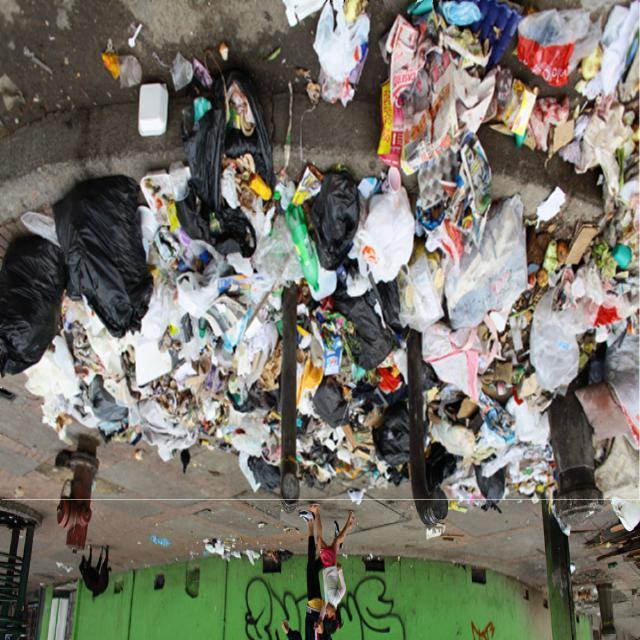Trashbag: (49, 176, 164, 333), (175, 75, 271, 256), (0, 227, 71, 373), (307, 163, 363, 278), (334, 281, 394, 362), (412, 450, 462, 527), (367, 412, 411, 471), (473, 457, 516, 513), (86, 378, 131, 428), (245, 450, 286, 496), (312, 379, 348, 428)
